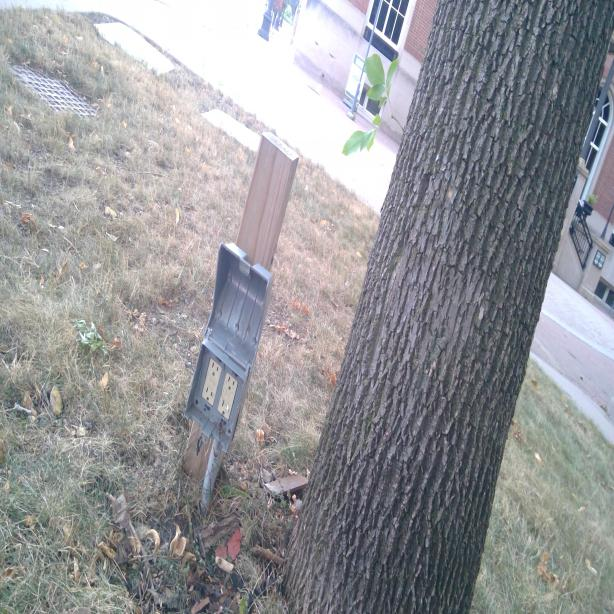typeb: (224, 374, 237, 393), (203, 383, 215, 403), (219, 398, 230, 418), (210, 359, 220, 379)
